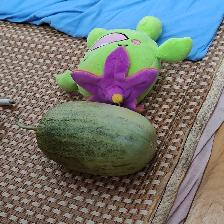gua: (42, 110, 144, 171)
